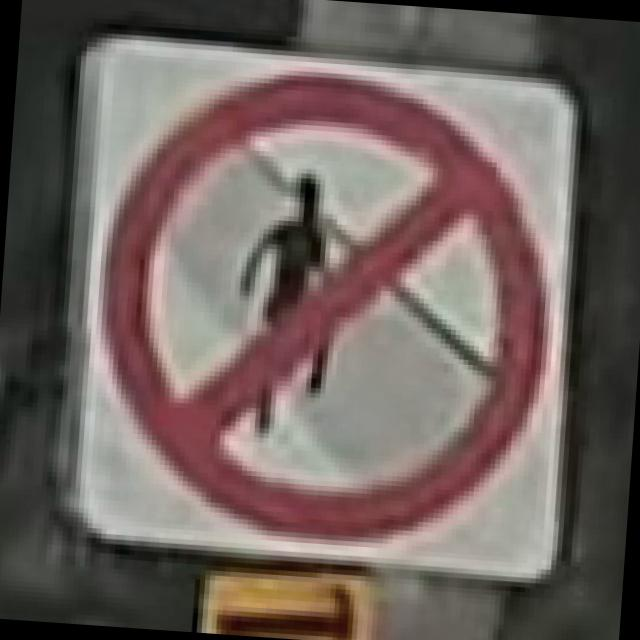nojaywalking_sign: (37, 21, 596, 584)
